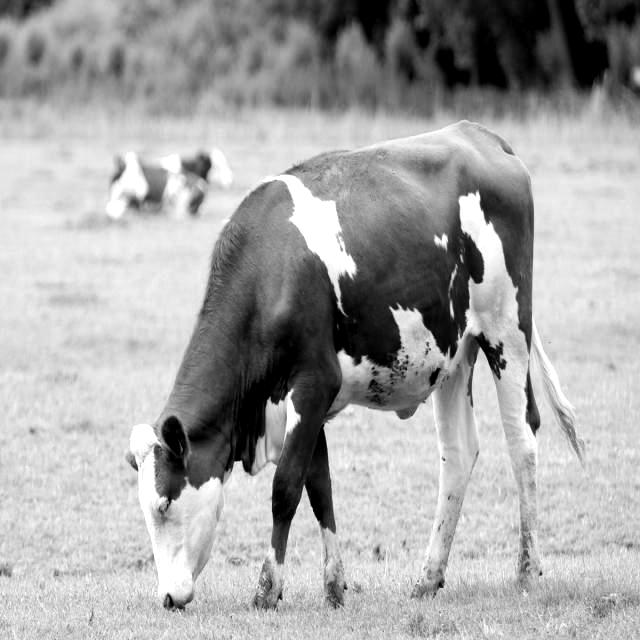COW: (126, 121, 581, 608)
